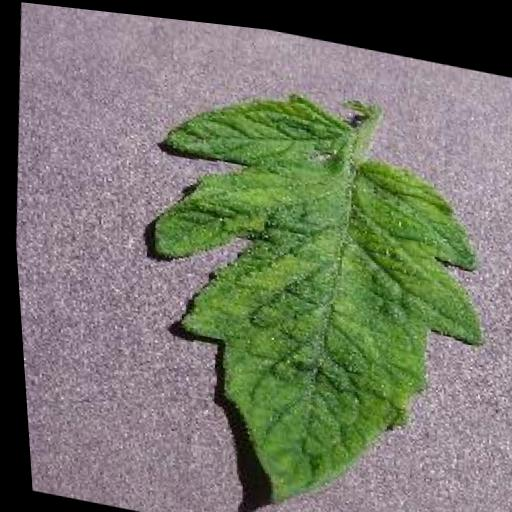Mosaic Virus: (118, 60, 512, 512)
